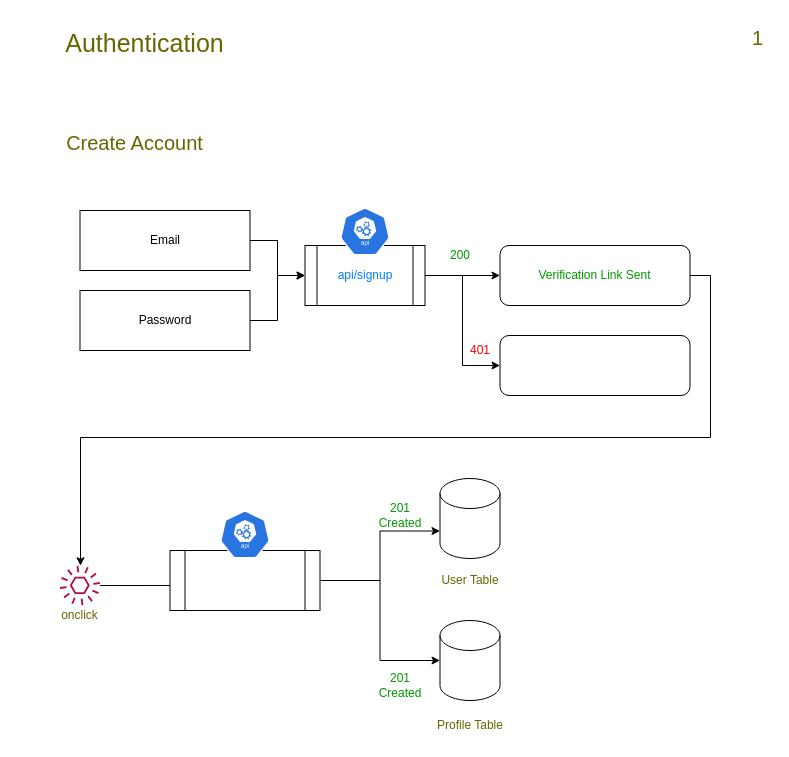
Image size: 789x757. Some labels were removed from this diagram. The centre of each missing label's shape, as x and y in pixels:
api/verify-email: the point at 244,580
Email Already Registered: the point at 594,365
